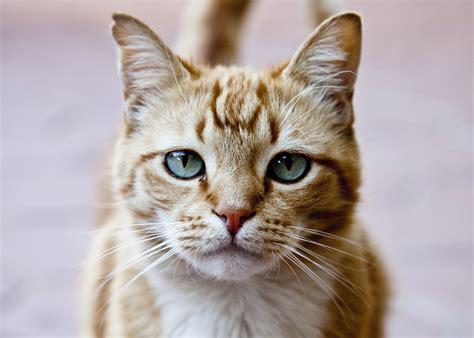cat: (80, 11, 390, 338)
